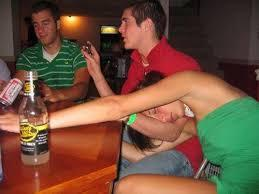Drunk: (136, 97, 186, 125), (115, 11, 142, 49), (31, 13, 56, 44)
